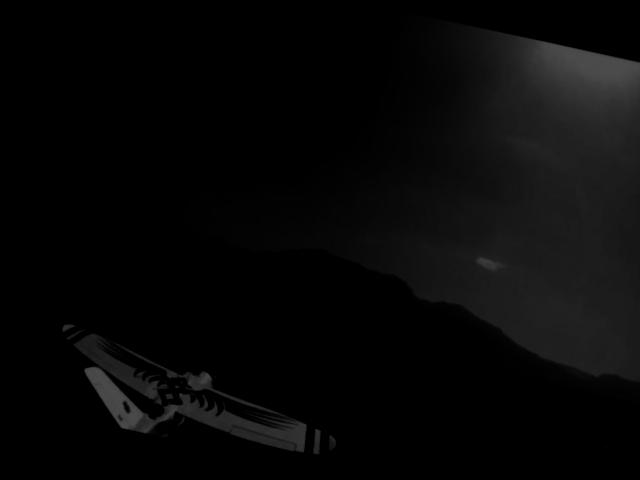hedef: (26, 291, 350, 478)
